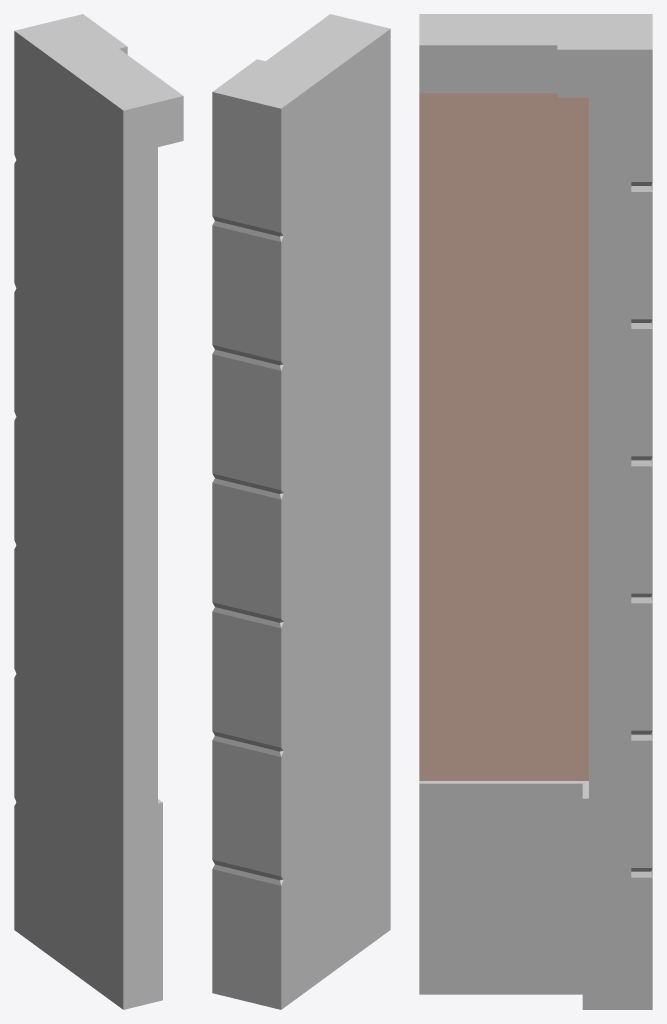
File: EntranceWall_Corner.fbx
The picture shows the model from 3 angles, left to right: view 1: azimuth 30°, elevation 25°; view 2: azimuth 150°, elevation 25°; view 3: azimuth 270°, elevation 25°; orthographic projection. The views are drawn at different scales.
Parts seen in each view (by area): view 1: EntranceWall_Corner; view 2: EntranceWall_Corner; view 3: EntranceWall_Corner.
Boxes of the visible parts, box(x1,y1,x2,y2) form: EntranceWall_Corner: box(14, 14, 183, 1009); EntranceWall_Corner: box(212, 14, 390, 1009); EntranceWall_Corner: box(419, 14, 652, 1009).
Bounding box in the file's own units: 0.4 × 5 × 1.1.
